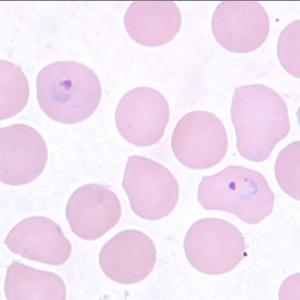Infected: (197, 164, 275, 224), (35, 60, 100, 124)
Uninfected: (229, 84, 291, 162), (122, 153, 180, 220), (184, 217, 247, 275), (4, 215, 73, 266), (114, 87, 171, 147), (65, 183, 123, 241), (172, 110, 229, 169), (98, 229, 158, 284), (211, 0, 270, 54), (0, 124, 48, 185), (123, 0, 182, 48), (5, 261, 68, 300)
